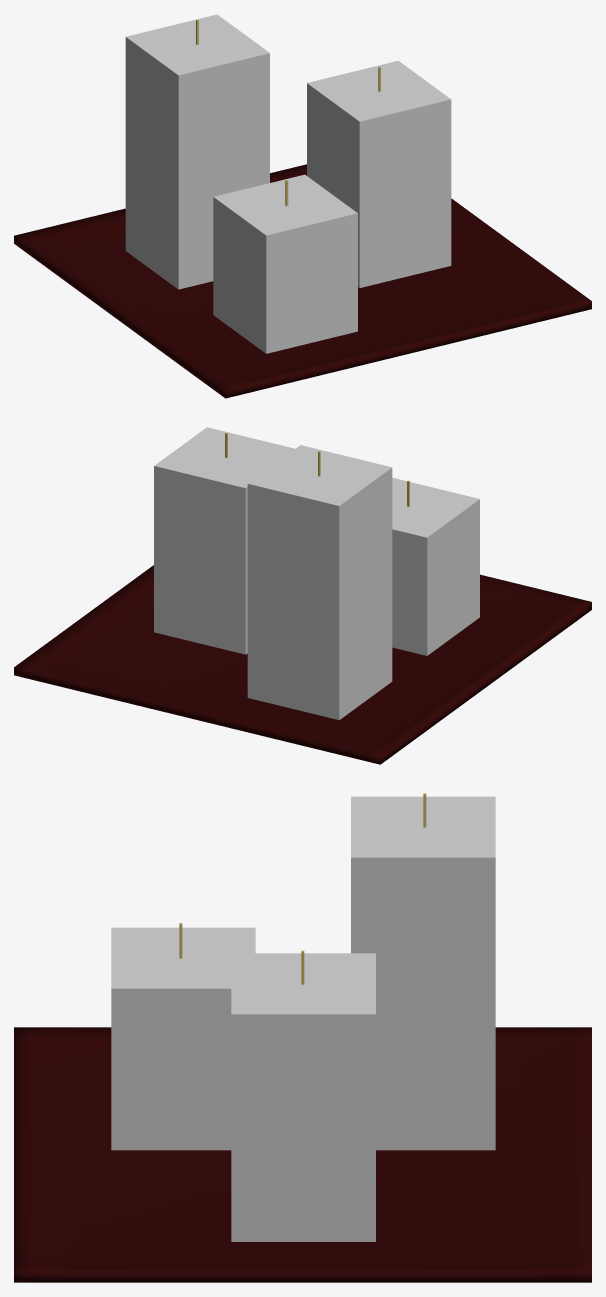
Rendered from Candle Garden Base.dae.
3 renders of one model, top to bottom at view 1: azimuth 30°, elevation 25°; view 2: azimuth 150°, elevation 25°; view 3: azimuth 270°, elevation 25°, orthographic. The views are drawn at different scales.
Parts seen in each view (by area): view 1: Cube, Cube_003, Cube_002, Cube_001; view 2: Cube, Cube_003, Cube_002, Cube_001; view 3: Cube, Cube_003, Cube_002, Cube_001.
Boxes of the visible parts, bbox=[...] form: Cube: bbox=[14, 164, 591, 398]; Cube_003: bbox=[125, 14, 269, 289]; Cube_002: bbox=[307, 60, 451, 287]; Cube_001: bbox=[213, 174, 357, 353]; Cube: bbox=[14, 565, 591, 764]; Cube_003: bbox=[247, 445, 392, 720]; Cube_002: bbox=[154, 427, 295, 654]; Cube_001: bbox=[392, 477, 479, 655]; Cube: bbox=[14, 1027, 591, 1282]; Cube_003: bbox=[351, 796, 495, 1150]; Cube_002: bbox=[231, 953, 375, 1241]; Cube_001: bbox=[111, 927, 255, 1150].
Size of the model in its own units: 0.24 by 0.24 by 0.1567.
